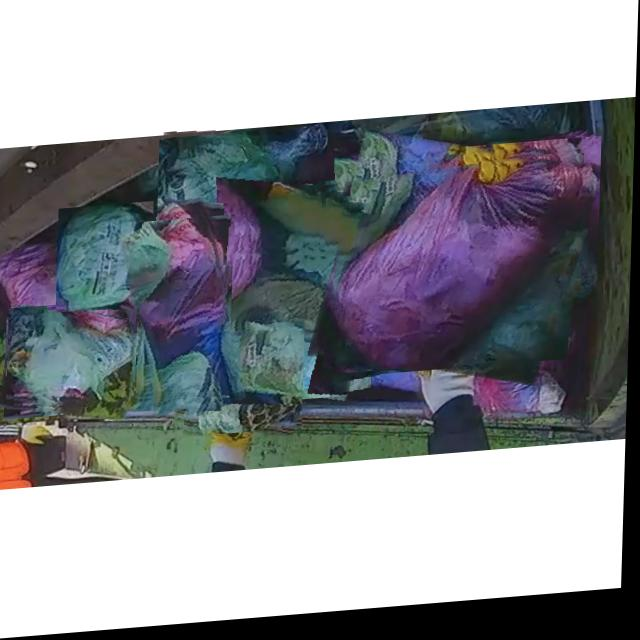general_trashbag: (208, 193, 386, 405), (160, 133, 320, 258), (489, 151, 599, 307), (10, 307, 140, 408), (190, 332, 304, 437), (59, 207, 154, 312)
other_trashbag: (331, 169, 591, 376), (138, 222, 230, 400)
